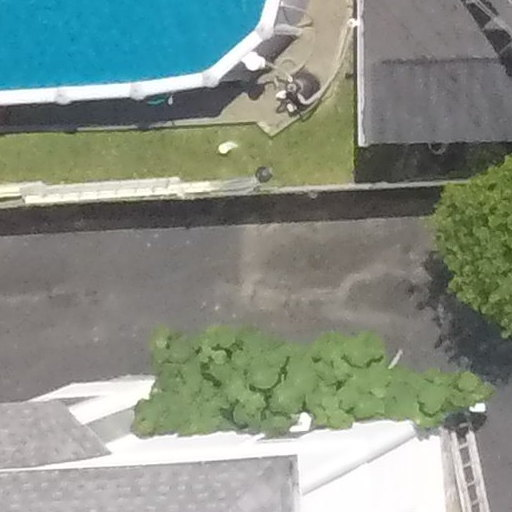container: (252, 161, 274, 185), (428, 139, 448, 157)
pool: (1, 1, 308, 99)
